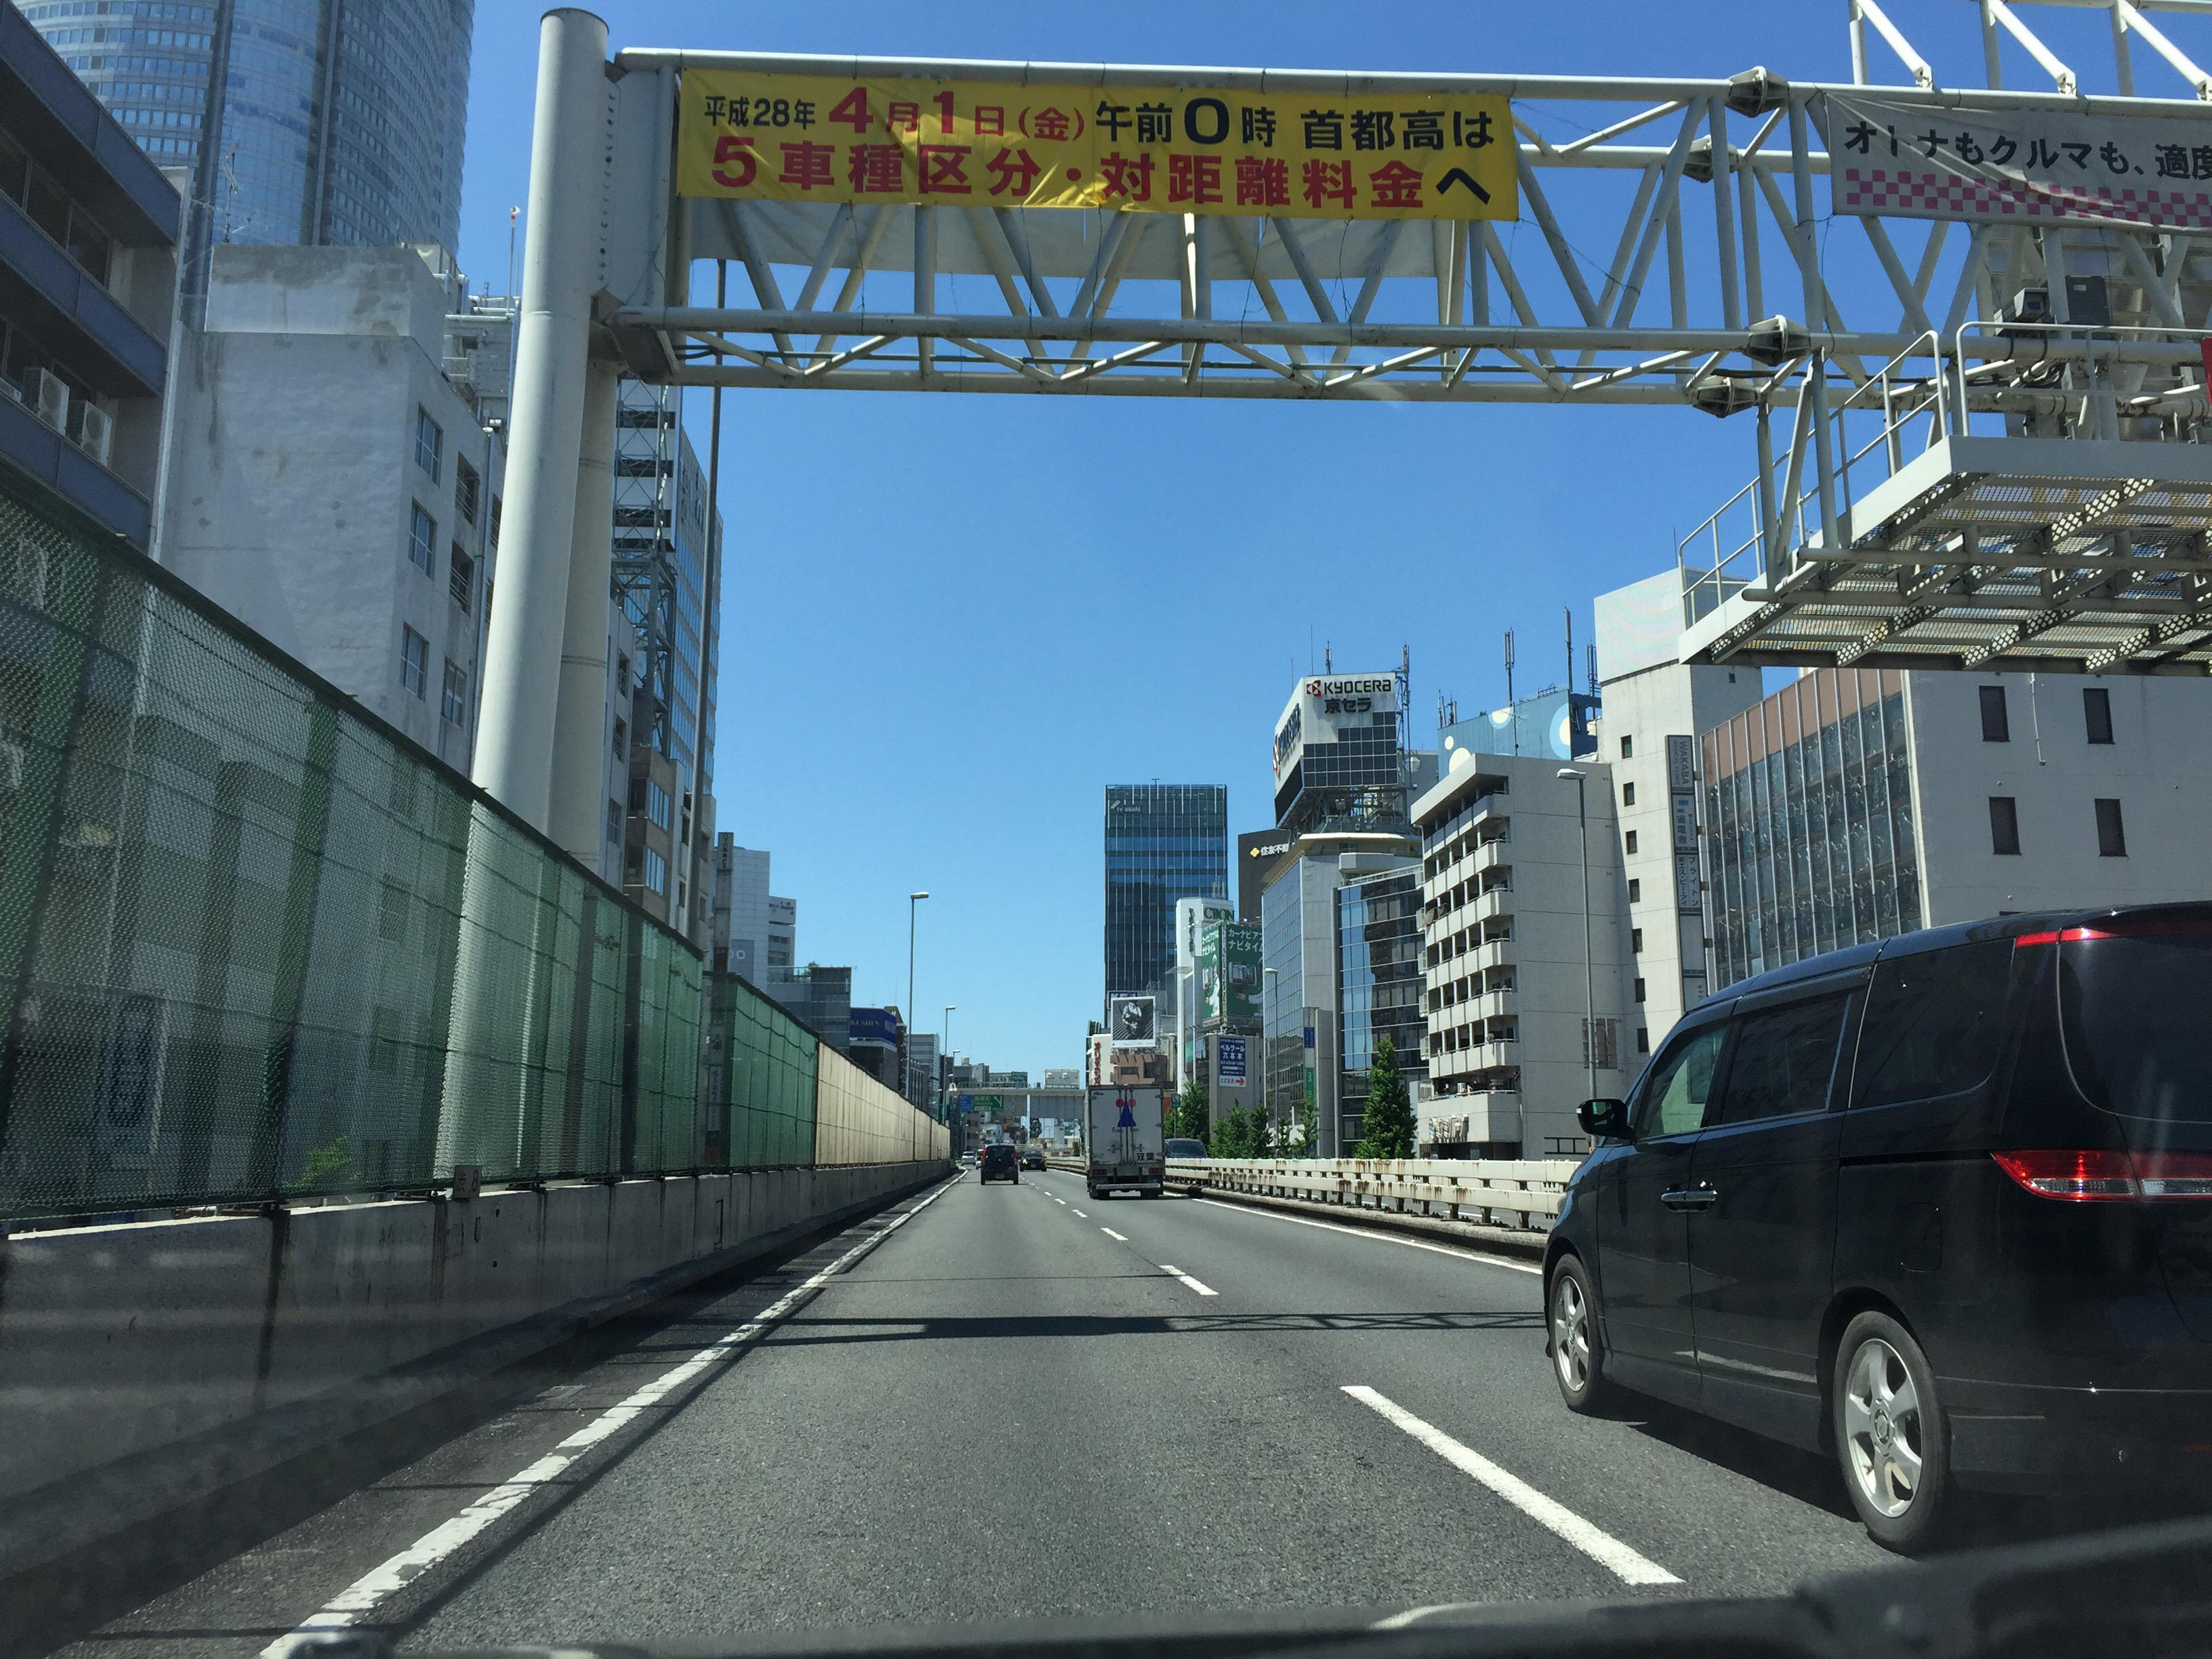vinyl banner: (648, 49, 1547, 254), (1796, 52, 2212, 249)
